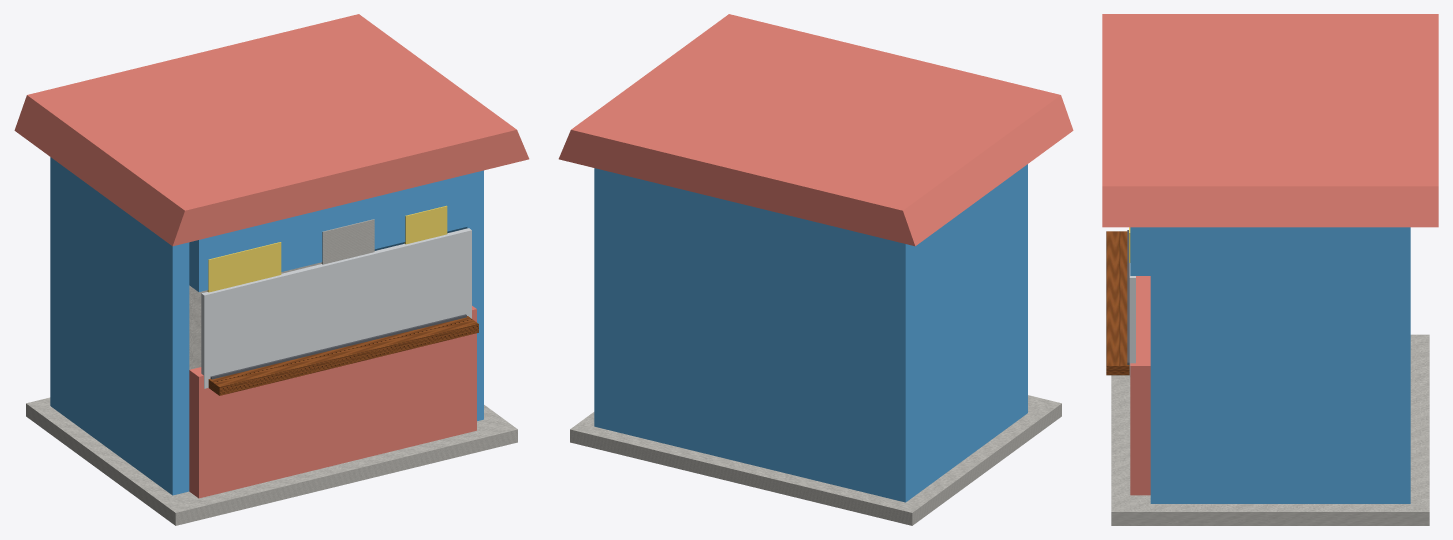
Rendered from kiosk.glb.
3 renders of one model, left to right at view 1: azimuth 30°, elevation 25°; view 2: azimuth 150°, elevation 25°; view 3: azimuth 270°, elevation 25°, orthographic. The views are drawn at different scales.
Parts seen in each view (by area): view 1: park-kiosk-poppy, park-kiosk-azure, shutter/steel, park-kiosk-paving, park-kiosk-timber, park-kiosk-sunflower, shutter/charcoal; view 2: park-kiosk-azure, park-kiosk-poppy, park-kiosk-paving; view 3: park-kiosk-poppy, park-kiosk-azure, park-kiosk-paving, park-kiosk-timber, shutter/steel.
Boxes of the visible parts, <box> form: park-kiosk-poppy: <box>14,14,529,498</box>; park-kiosk-azure: <box>50,157,483,495</box>; shutter/steel: <box>201,228,471,388</box>; park-kiosk-paving: <box>26,219,517,525</box>; park-kiosk-timber: <box>208,316,478,395</box>; park-kiosk-sunflower: <box>207,205,447,292</box>; shutter/charcoal: <box>210,314,466,379</box>; park-kiosk-azure: <box>594,164,1027,502</box>; park-kiosk-poppy: <box>558,14,1073,246</box>; park-kiosk-paving: <box>570,395,1061,525</box>; park-kiosk-poppy: <box>1102,14,1438,495</box>; park-kiosk-azure: <box>1130,227,1410,503</box>; park-kiosk-paving: <box>1111,334,1429,525</box>; park-kiosk-timber: <box>1106,231,1129,375</box>; shutter/steel: <box>1129,263,1135,376</box>.
Size of the model in its own units: 3.44 by 2.92 by 2.64.
Materials: 7 (2 with a texture image).
